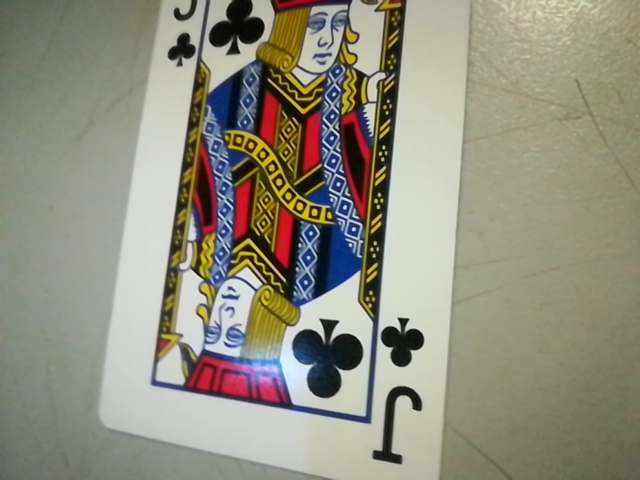mh j: (369, 311, 436, 476)
